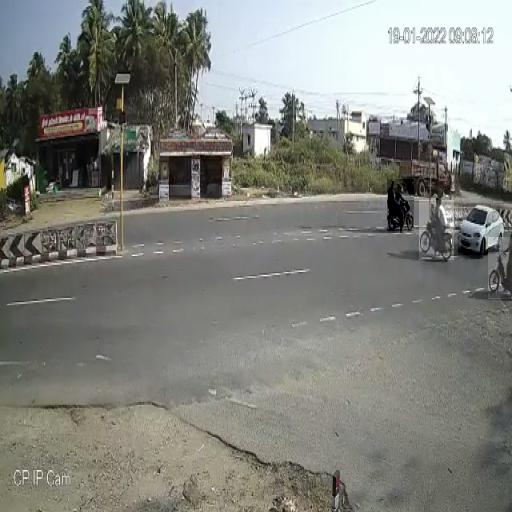小汽车: (458, 203, 504, 255)
自行车: (419, 200, 454, 260), (488, 238, 512, 300), (387, 180, 414, 232)
